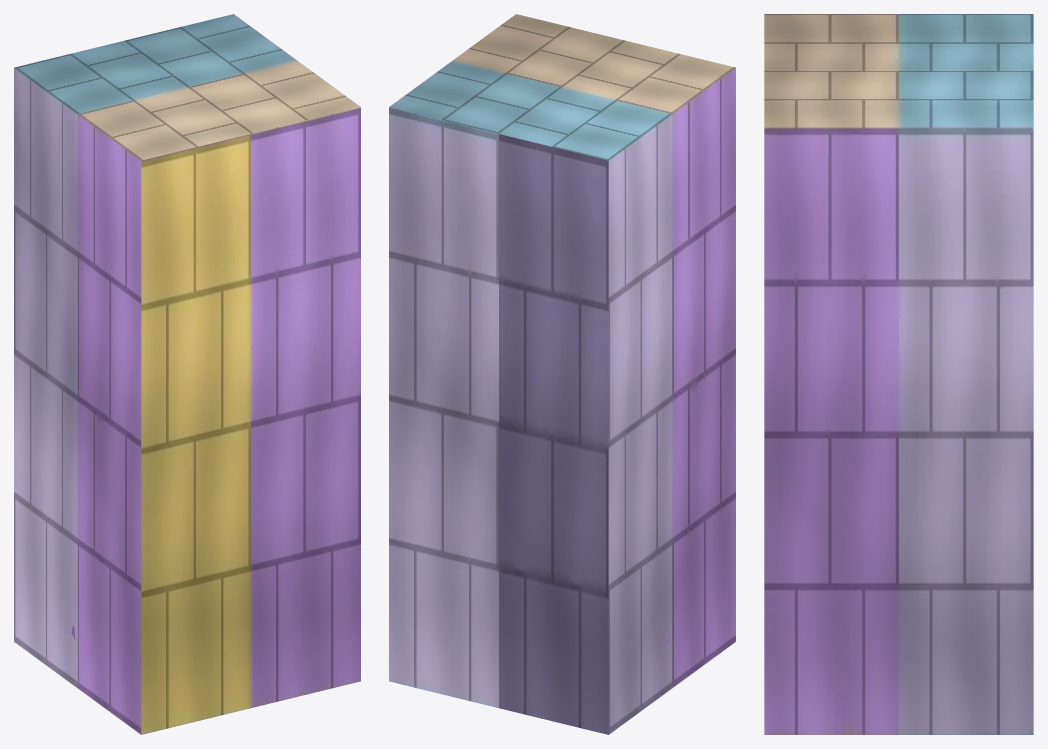
File: crystal_b.glb
The picture shows the model from 3 angles, left to right: view 1: azimuth 30°, elevation 25°; view 2: azimuth 150°, elevation 25°; view 3: azimuth 270°, elevation 25°; orthographic projection. The views are drawn at different scales.
Parts seen in each view (by area): view 1: col; view 2: col; view 3: col.
Boxes of the visible parts, left/top/right/bottom form: col: left=14, top=14, right=360, bottom=734; col: left=389, top=14, right=735, bottom=734; col: left=764, top=14, right=1033, bottom=734.
Bounding box in the file's own units: 0.7129 × 1.78 × 0.7143.
1 material, 1 textured.
